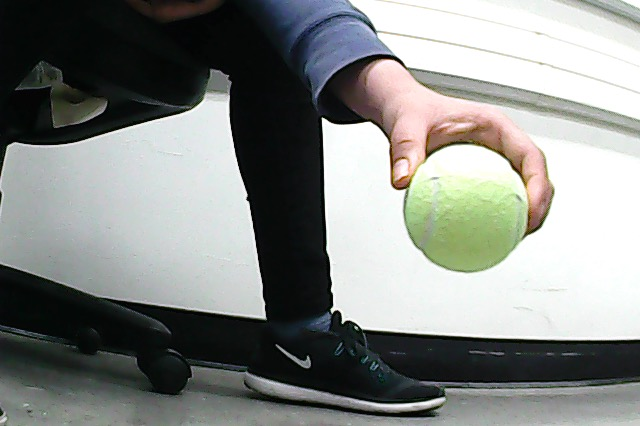ball: (404, 143, 529, 273)
